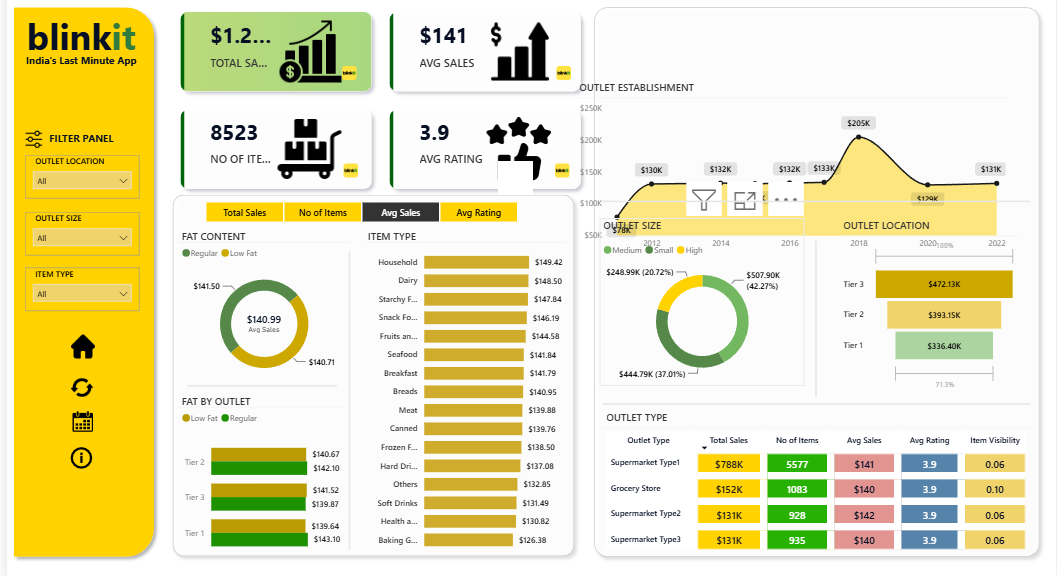

The page's visual inventory and layout, read from the dashboard file:
{"tool":"powerbi","page":{"name":"Home","canvas":[1400,800],"ordinal":0},"visuals":[{"type":"shape","box":[0,25.3,205,750.7],"z":0},{"type":"textbox","box":[0,33,198.1,82.1],"z":1000},{"type":"cardVisual","fields":{"Data":["BlinkIT Grocery Data.Total Sum Sales","BlinkIT Grocery Data.Average Sales","BlinkIT Grocery Data.No of Items","BlinkIT Grocery Data.Avg Rating"]},"box":[213,24,569.7,270.8],"z":2000},{"type":"image","box":[71.4,466.3,58.7,42.6],"z":3000},{"type":"image","box":[74.4,521.1,52.1,39.7],"z":4000},{"type":"image","box":[81.8,568.8,38,39.1],"z":5000},{"type":"shape","box":[774.5,25.5,611.7,751.1],"z":6000},{"type":"areaChart","title":"OUTLET ESTABLISHMENT","fields":{"Category":["BlinkIT Grocery Data.Outlet Establishment Year2"],"Y":["BlinkIT Grocery Data.Total Sum Sales"]},"box":[758,132,578.3,234],"z":7000},{"type":"textbox","box":[0,89.6,198.1,34],"z":8000},{"type":"donutChart","title":"OUTLET SIZE","fields":{"Category":["BlinkIT Grocery Data.Outlet Size"],"Y":["BlinkIT Grocery Data.Total Sum Sales"]},"box":[790.6,316,273.6,224.5],"z":9000},{"type":"funnel","title":"OUTLET LOCATION","fields":{"Category":["BlinkIT Grocery Data.Outlet Location Type"],"Y":["BlinkIT Grocery Data.Total Sum Sales"]},"box":[1110.4,316,240.6,234],"z":10000},{"type":"pivotTable","title":"OUTLET TYPE","fields":{"Rows":["BlinkIT Grocery Data.Outlet Type"],"Values":["BlinkIT Grocery Data.Total Sum Sales","BlinkIT Grocery Data.No of Items","BlinkIT Grocery Data.Average Sales","BlinkIT Grocery Data.Avg Rating","Avg(BlinkIT Grocery Data.Item Visibility)"]},"box":[793.6,572.3,578.7,197.1],"z":11000},{"type":"shape","box":[793.4,284.9,570.8,19.8],"z":12000},{"type":"shape","box":[1064.2,346.2,29.2,208.5],"z":13000},{"type":"shape","box":[212.8,276.6,553.2,500],"z":14000},{"type":"donutChart","title":"FAT CONTENT","fields":{"Category":["BlinkIT Grocery Data.Item Fat Content"],"Y":["BlinkIT Grocery Data.Average Sales"]},"box":[228.3,330.2,229.2,213.2],"z":15000},{"type":"shape","box":[793.4,553.8,570.8,19.8],"z":16000},{"type":"cardVisual","fields":{"Data":["BlinkIT Grocery Data.Average Sales"]},"box":[291.9,428.1,102,54.5],"z":17000},{"type":"slicer","fields":{"Values":["Metric.Metric"]},"box":[240,287.5,464.2,39.6],"z":18000},{"type":"barChart","title":"ITEM TYPE","fields":{"Category":["BlinkIT Grocery Data.Item Type"],"Y":["BlinkIT Grocery Data.Average Sales"]},"box":[475.3,330.2,269.8,438.1],"z":19000},{"type":"shape","box":[442.5,360.4,29.2,399.1],"z":20000},{"type":"clusteredBarChart","title":"FAT BY OUTLET","fields":{"Category":["BlinkIT Grocery Data.Outlet Location Type"],"Series":["BlinkIT Grocery Data.Item Fat Content"],"Y":["BlinkIT Grocery Data.Average Sales"]},"box":[228.3,550.9,221.7,229.2],"z":21000},{"type":"shape","box":[239.6,529.2,200,19.8],"z":22000},{"type":"image","box":[725.5,108.5,33,29.2],"z":23000},{"type":"image","box":[723.6,237.7,33,29.2],"z":24000},{"type":"image","box":[442.5,237.7,33,29.2],"z":25000},{"type":"image","box":[440.6,108.5,33,29.2],"z":26000},{"type":"slicer","fields":{"Values":["BlinkIT Grocery Data.Outlet Location Type"]},"box":[23.7,231.2,153,58],"z":29000},{"type":"slicer","fields":{"Values":["BlinkIT Grocery Data.Outlet Size"]},"box":[23.7,307.7,153,58],"z":30000},{"type":"slicer","fields":{"Values":["BlinkIT Grocery Data.Item Type"]},"box":[23.7,382.4,153,58],"z":31000},{"type":"textbox","box":[36.8,193.4,126.4,31.1],"z":32000},{"type":"image","box":[18.9,184,34.9,53.8],"z":33000},{"type":"textbox","box":[36.8,680.5,125.5,28.8],"z":34000},{"type":"textbox","box":[36.8,697.8,125.5,28.8],"z":35000},{"type":"textbox","box":[51.8,730,125.5,28.8],"z":37000},{"type":"actionButton","box":[80.6,616.6,38.5,39.7],"z":38000}]}

Visuals, with their boxes on the page's 1400x800 design canvas (x1, y1, x2, y2). These are canvas units, not pixel positions in the 1057x576 screenshot, which may show the page scaled, cropped or inside an application window:
shape: (left=0, top=25, right=205, bottom=776)
textbox: (left=0, top=33, right=198, bottom=115)
cardVisual - BlinkIT Grocery Data.Total Sum Sales x BlinkIT Grocery Data.Average Sales: (left=213, top=24, right=783, bottom=295)
image: (left=71, top=466, right=130, bottom=509)
image: (left=74, top=521, right=126, bottom=561)
image: (left=82, top=569, right=120, bottom=608)
shape: (left=774, top=26, right=1386, bottom=777)
"OUTLET ESTABLISHMENT" areaChart: (left=758, top=132, right=1336, bottom=366)
textbox: (left=0, top=90, right=198, bottom=124)
"OUTLET SIZE" donutChart: (left=791, top=316, right=1064, bottom=540)
"OUTLET LOCATION" funnel: (left=1110, top=316, right=1351, bottom=550)
"OUTLET TYPE" pivotTable: (left=794, top=572, right=1372, bottom=769)
shape: (left=793, top=285, right=1364, bottom=305)
shape: (left=1064, top=346, right=1093, bottom=555)
shape: (left=213, top=277, right=766, bottom=777)
"FAT CONTENT" donutChart: (left=228, top=330, right=458, bottom=543)
shape: (left=793, top=554, right=1364, bottom=574)
cardVisual - BlinkIT Grocery Data.Average Sales: (left=292, top=428, right=394, bottom=483)
slicer - Metric.Metric: (left=240, top=288, right=704, bottom=327)
"ITEM TYPE" barChart: (left=475, top=330, right=745, bottom=768)
shape: (left=442, top=360, right=472, bottom=760)
"FAT BY OUTLET" clusteredBarChart: (left=228, top=551, right=450, bottom=780)
shape: (left=240, top=529, right=440, bottom=549)
image: (left=726, top=108, right=758, bottom=138)
image: (left=724, top=238, right=757, bottom=267)
image: (left=442, top=238, right=476, bottom=267)
image: (left=441, top=108, right=474, bottom=138)
slicer - BlinkIT Grocery Data.Outlet Location Type: (left=24, top=231, right=177, bottom=289)
slicer - BlinkIT Grocery Data.Outlet Size: (left=24, top=308, right=177, bottom=366)
slicer - BlinkIT Grocery Data.Item Type: (left=24, top=382, right=177, bottom=440)
textbox: (left=37, top=193, right=163, bottom=224)
image: (left=19, top=184, right=54, bottom=238)
textbox: (left=37, top=680, right=162, bottom=709)
textbox: (left=37, top=698, right=162, bottom=727)
textbox: (left=52, top=730, right=177, bottom=759)
actionButton: (left=81, top=617, right=119, bottom=656)
